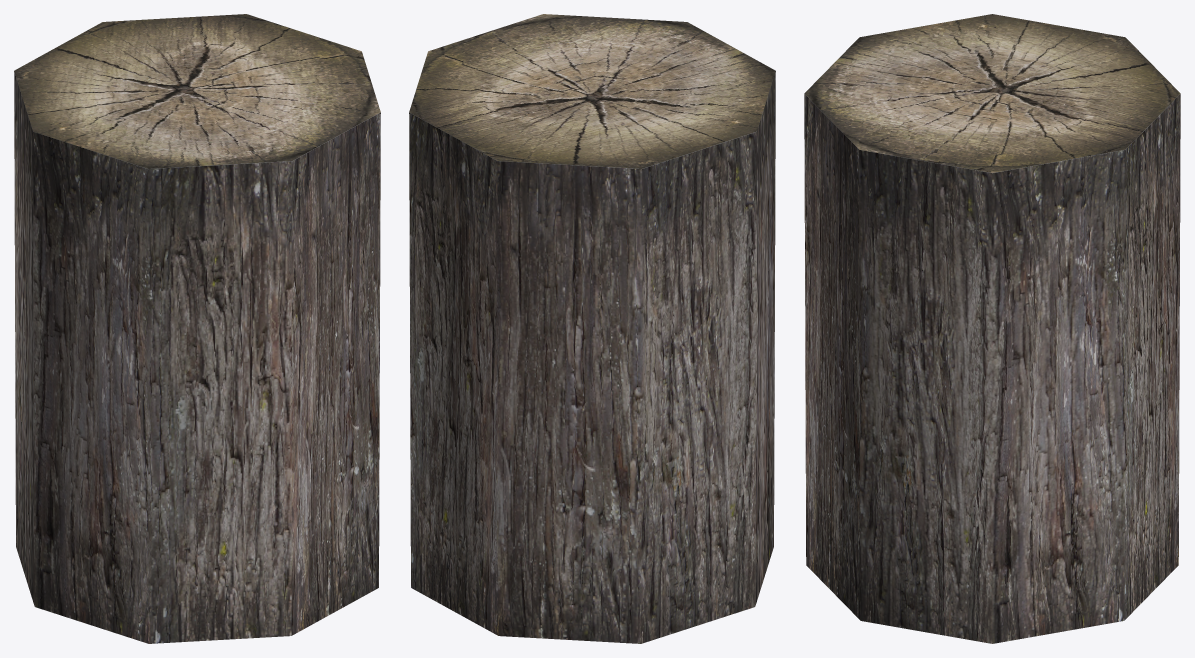
File: log 1.fbx
3 renders of one model, left to right at view 1: azimuth 30°, elevation 25°; view 2: azimuth 150°, elevation 25°; view 3: azimuth 270°, elevation 25°, orthographic.
Visible parts, largest first — view 1: Cylinder.002; view 2: Cylinder.002; view 3: Cylinder.002.
Boxes of the visible parts, x1,y1,x2,y2 form: Cylinder.002: (14,14,380,643); Cylinder.002: (409,14,775,643); Cylinder.002: (804,14,1180,643).
Bounding box in the file's own units: 29.57 × 40.89 × 29.57.
Materials: 1 (1 with a texture image).
